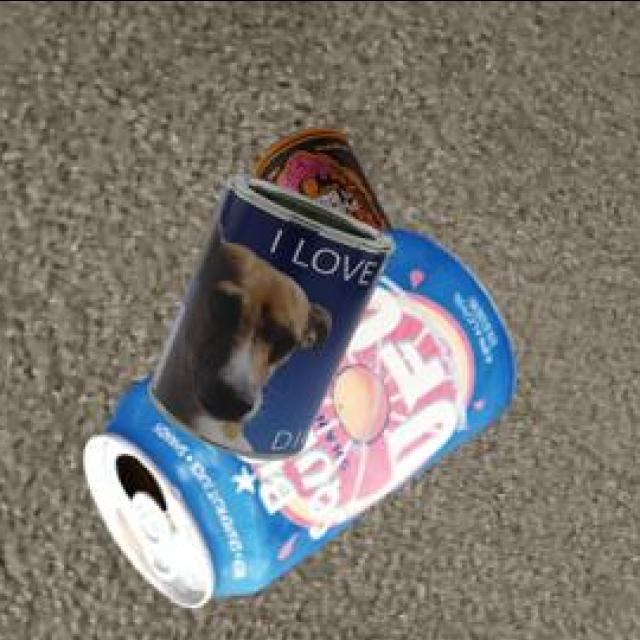logam: (89, 226, 520, 603), (153, 169, 399, 454), (257, 122, 395, 229)
